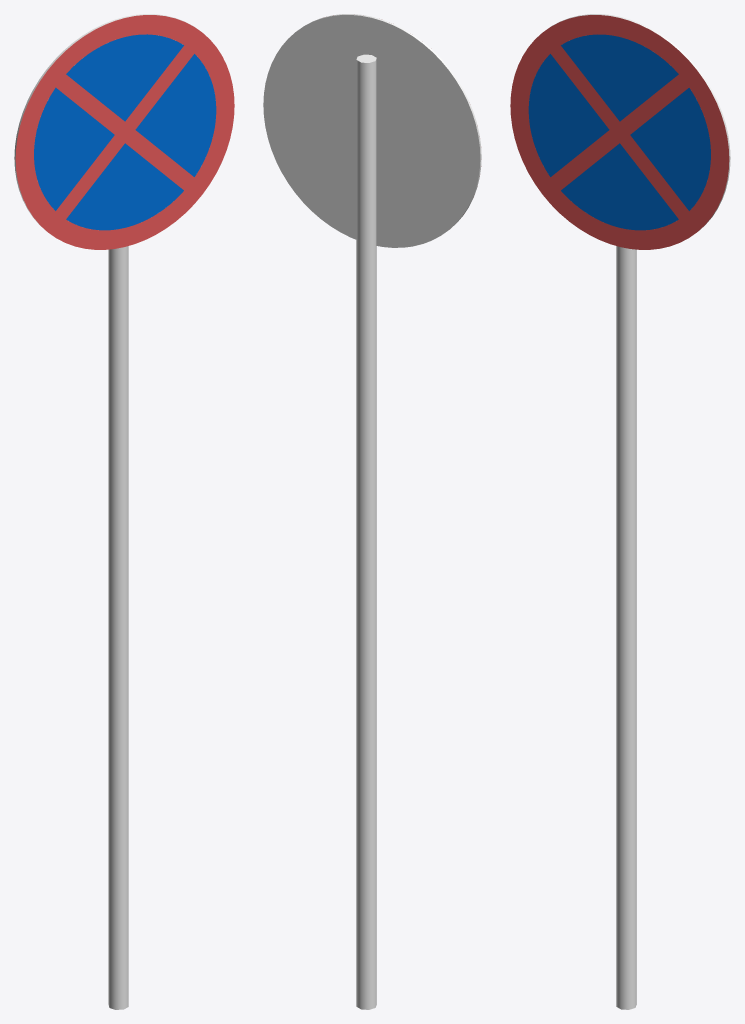
3 views of the same model, side by side, from view 1: azimuth 30°, elevation 25°; view 2: azimuth 150°, elevation 25°; view 3: azimuth 330°, elevation 25° (orthographic).
Parts seen in each view (by area): view 1: P31; view 2: P31; view 3: P31.
Boxes of the visible parts, x1,y1,x2,y2 form: P31: [14, 14, 234, 1009]; P31: [263, 14, 481, 1009]; P31: [510, 14, 730, 1009].
Bounding box in the file's own units: 3.93 × 17.03 × 0.3683.
